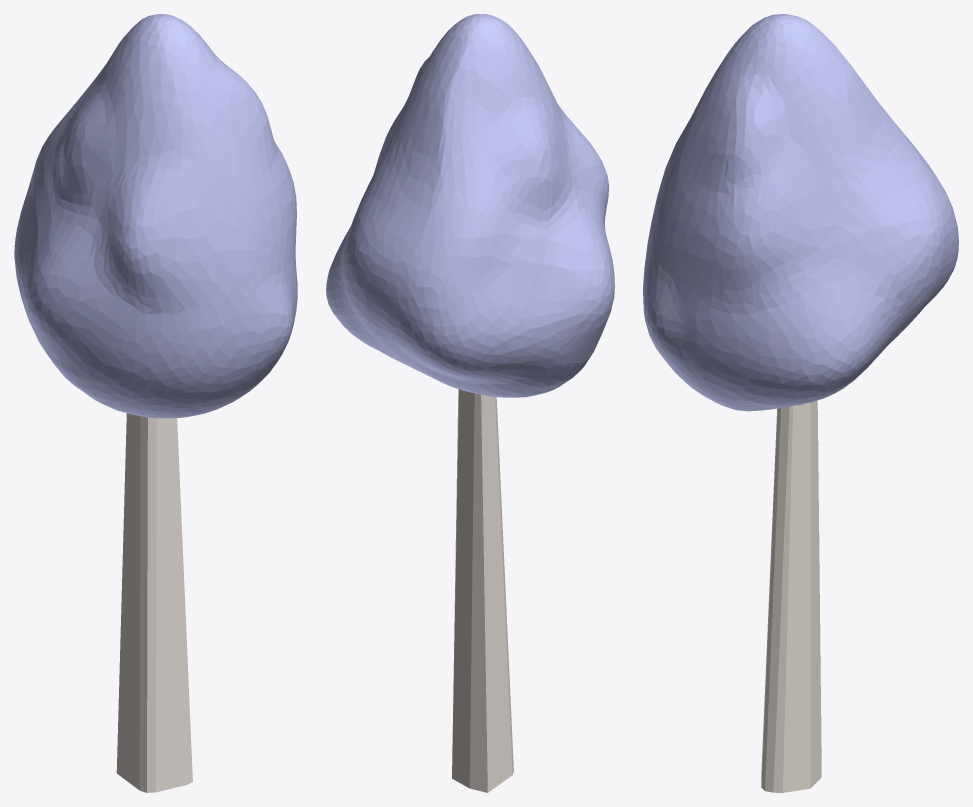
The model's file is tree12j.gltf.
3 renders of one model, left to right at view 1: azimuth 30°, elevation 25°; view 2: azimuth 150°, elevation 25°; view 3: azimuth 270°, elevation 25°, orthographic.
Parts seen in each view (by area): view 1: Icosphere; view 2: Icosphere; view 3: Icosphere.
Boxes of the visible parts, <box> form: Icosphere: <box>14,14,297,792</box>; Icosphere: <box>326,14,614,792</box>; Icosphere: <box>643,14,958,792</box>.
Bounding box in the file's own units: 5.06 × 14.26 × 5.33.
